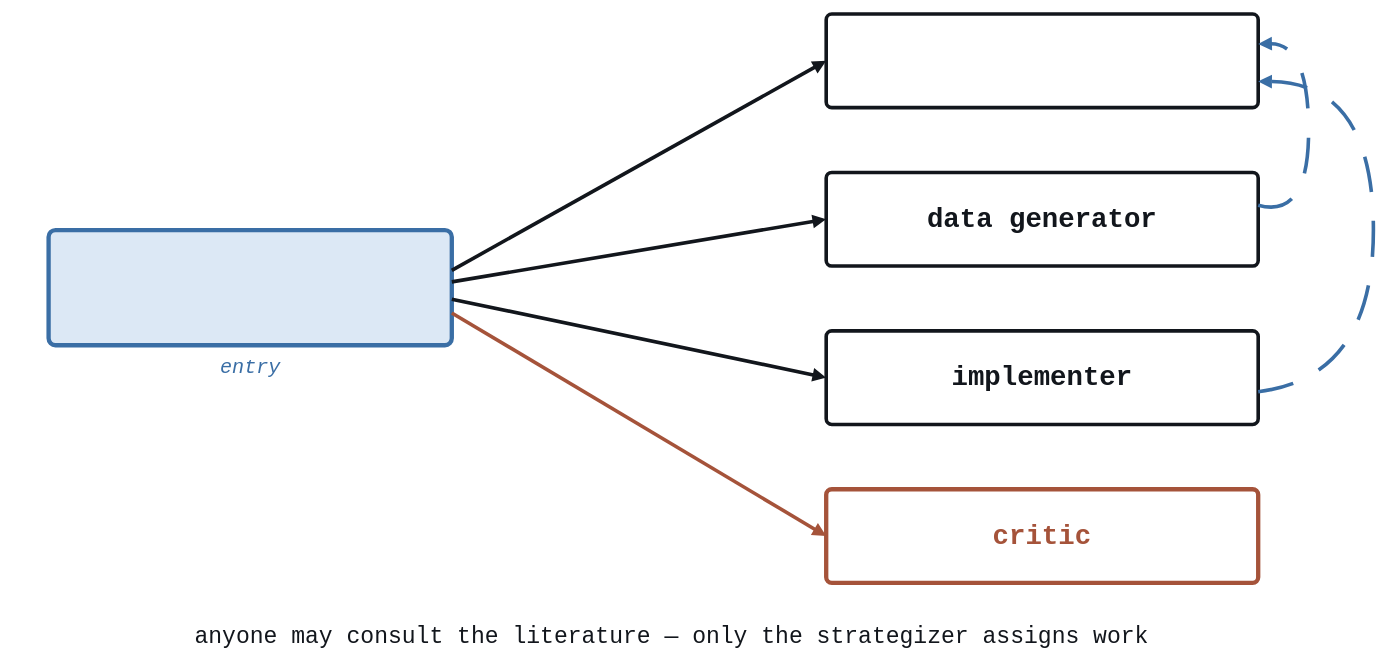
This 1387x667 diagram has some shape labels left out. Each missing label, with the box of its shape:
literature reviewer: (824, 12, 1260, 109)
strategizer: (46, 228, 454, 347)
